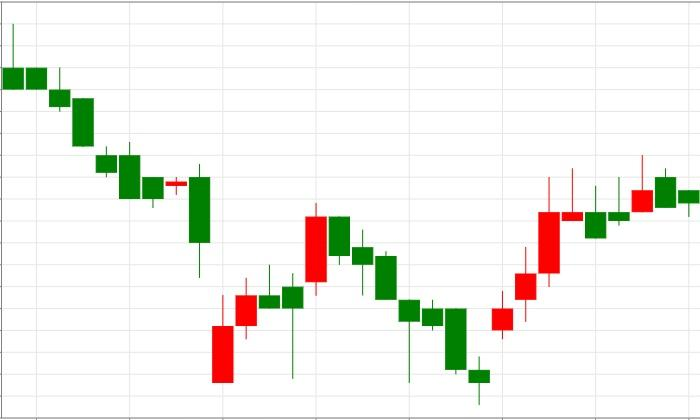morning_star_rise: (329, 216, 513, 405)
three_white_soldiers_rise: (329, 176, 560, 405)
